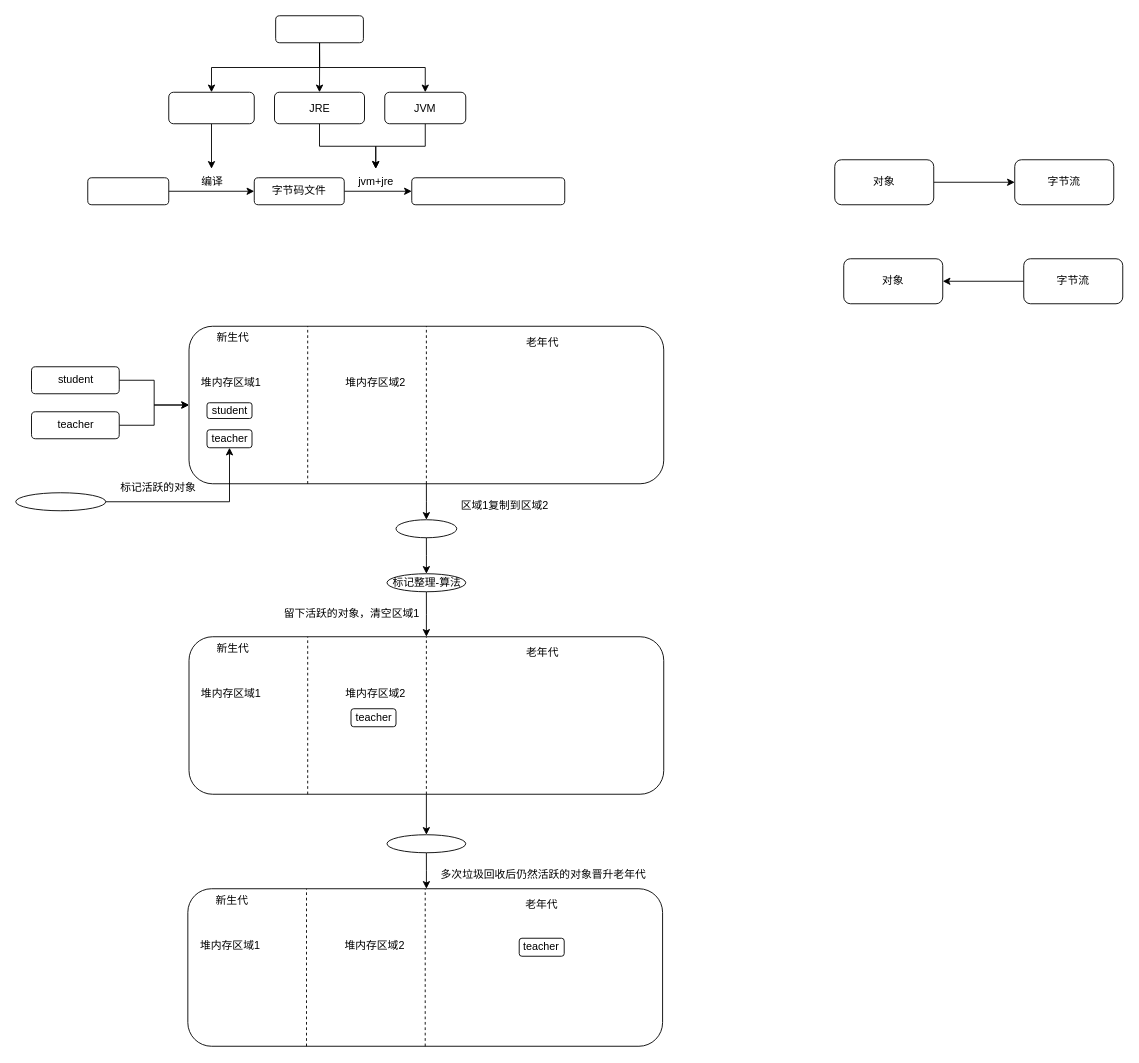
Image size: 1139x1063. Some labels were removed from this diagram. Each missing label, with the box of its shape:
Java程序: (87, 177, 169, 205)
Java编译器: (168, 91, 254, 124)
JDK: (275, 15, 363, 43)
分代回收策略: (386, 834, 466, 853)
复制算法: (395, 519, 457, 538)
底层操作系统可执行的机器码: (411, 177, 565, 205)
标记-清除算法: (15, 492, 106, 511)
